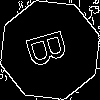B: (25, 25, 78, 70)
